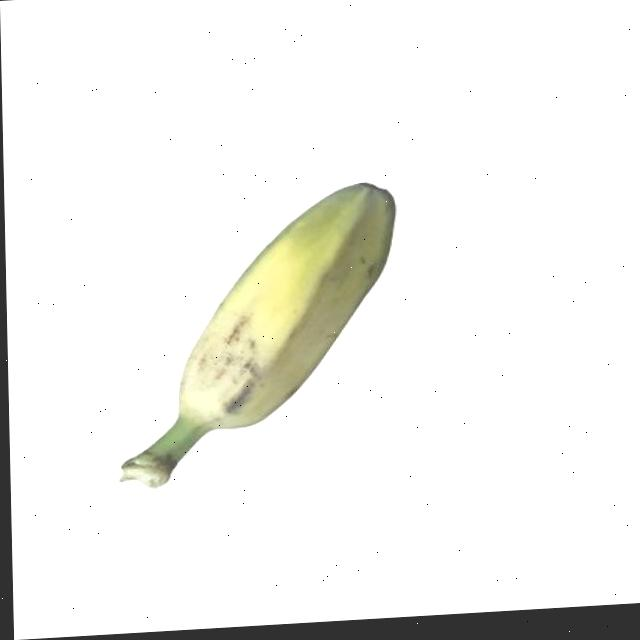banana: (163, 173, 407, 460)
